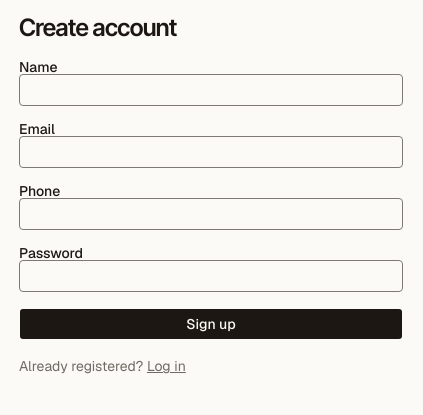
Scenario: RegisterForm › enforces the 8-char password minimum before hitting the network
In the field labelled "Name": point(211, 90) [19,74,403,106], type "Shorty"
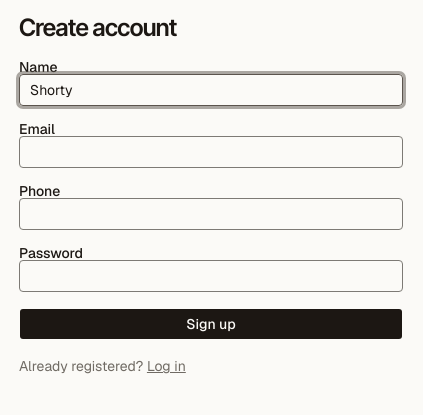
In the field labelled "Email": point(211, 152) [19,136,403,168], type "short@nexus.test"
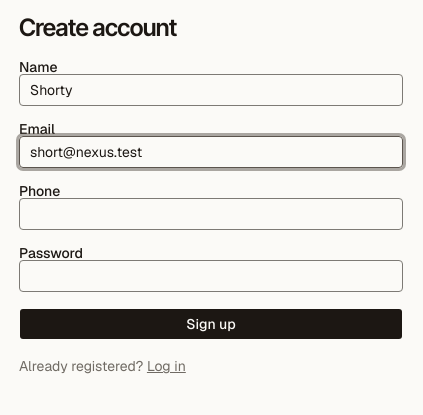
In the field labelled "Phone": point(211, 214) [19,198,403,230], type "555"
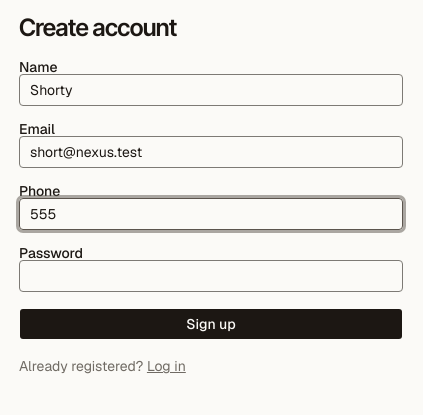
In the password field labelled "Password": point(211, 276) [19,260,403,292], type "abc"
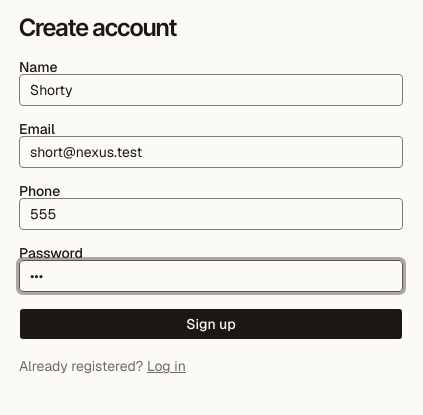
Click the button "Sign up": point(211, 324) [19,308,403,340]
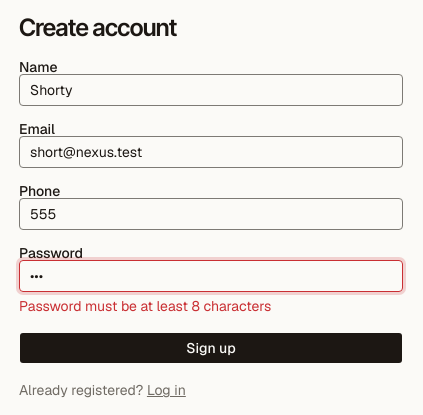
Expected: the text "Password must be at least 8 characters" is shown, [19,297,271,315]
